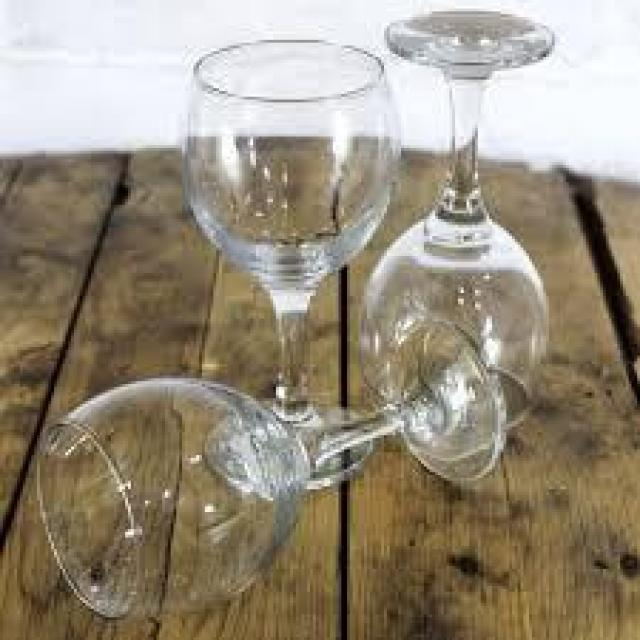non-organic waste: (34, 310, 515, 629)
